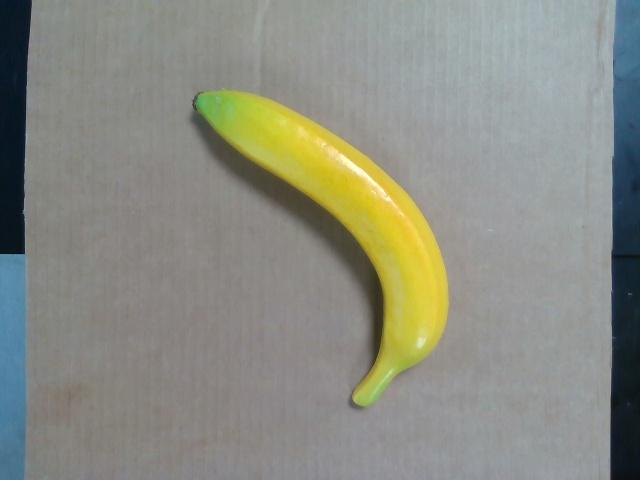banana: (193, 86, 449, 408)
